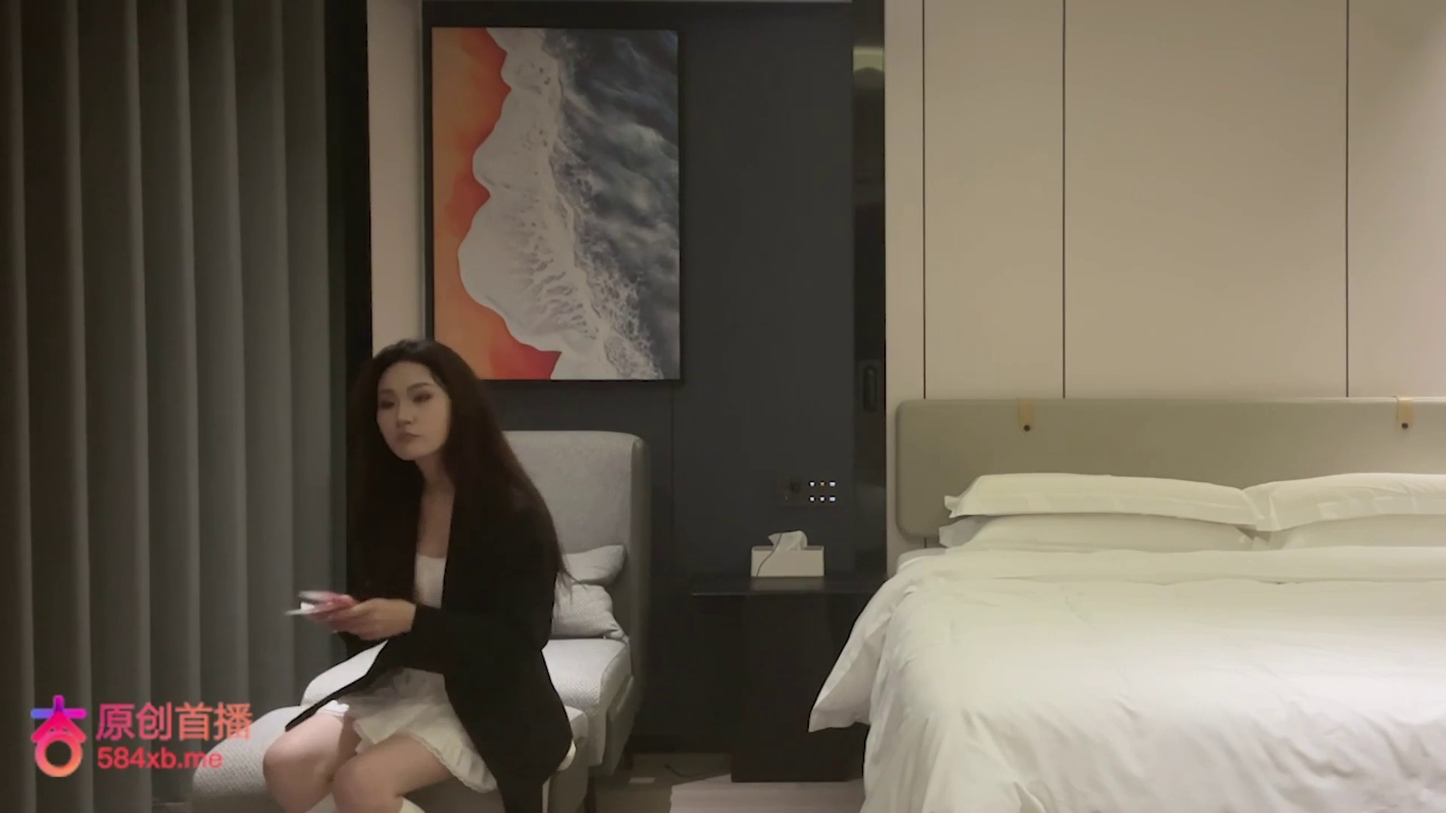sit: (262, 339, 574, 809)
